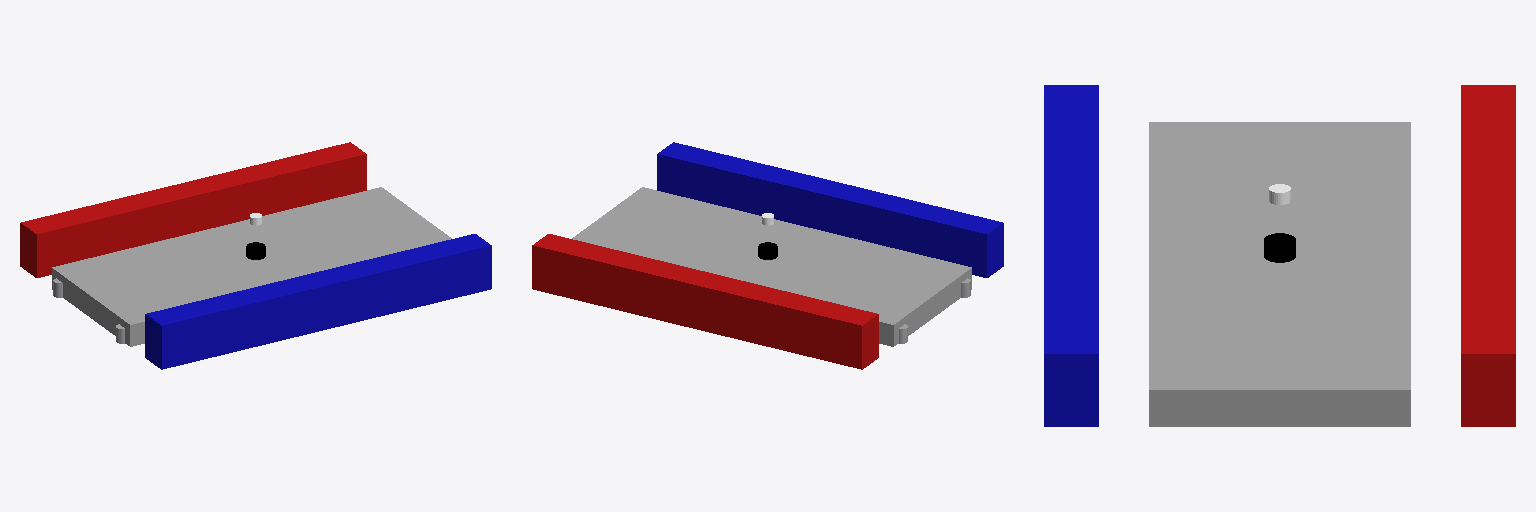
URDF robot description (catamaran):
<?xml version="1.0"?>
<robot name="catamaran">

  <!-- Main bridge/deck -->
  <link name="base_link">
    <visual>
      <geometry>
        <box size="2.35 0.97 0.15"/>
      </geometry>
      <origin xyz="0 0 0.075"/>
      <material name="Aluminum">
        <color rgba="0.7 0.7 0.7 1.0"/>
      </material>
    </visual>
  </link>

  <!-- Starboard (right) hull -->
  <link name="starboard_hull">
    <visual>
      <geometry>
        <box size="2.35 0.20 0.30"/>
      </geometry>
      <origin xyz="0 -0.385 0.15"/>
      <material name="Blue">
        <color rgba="0.1 0.1 0.8 1.0"/>
      </material>
    </visual>
  </link>
  <joint name="starboard_hull_joint" type="fixed">
    <parent link="base_link"/>
    <child link="starboard_hull"/>
    <origin xyz="0 -0.385 0"/>
  </joint>

  <!-- Port (left) hull -->
  <link name="port_hull">
    <visual>
      <geometry>
        <box size="2.35 0.20 0.30"/>
      </geometry>
      <origin xyz="0 0.385 0.15"/>
      <material name="Red">
        <color rgba="0.8 0.1 0.1 1.0"/>
      </material>
    </visual>
  </link>
  <joint name="port_hull_joint" type="fixed">
    <parent link="base_link"/>
    <child link="port_hull"/>
    <origin xyz="0 0.385 0"/>
  </joint>

  <!-- GNSS (GPS) sensor (top, center) -->
  <link name="gnss_link">
    <visual>
      <geometry>
        <cylinder length="0.05" radius="0.04"/>
      </geometry>
      <material name="White">
        <color rgba="1 1 1 1"/>
      </material>
    </visual>
  </link>
  <joint name="gnss_joint" type="fixed">
    <parent link="base_link"/>
    <child link="gnss_link"/>
    <origin xyz="0 0 0.40"/>
  </joint>

  <!-- RP Lidar (center of bridge) -->
  <link name="rplidar_link">
    <visual>
      <geometry>
        <cylinder length="0.07" radius="0.06"/>
      </geometry>
      <material name="Black">
        <color rgba="0 0 0 1"/>
      </material>
    </visual>
  </link>
  <joint name="rplidar_joint" type="fixed">
    <parent link="base_link"/>
    <child link="rplidar_link"/>
    <origin xyz="0 0 0.18"/>
  </joint>

  <!-- Waterproof ultrasonic (front, center, just above waterline) -->
  <link name="ultrasonic_front_link">
    <visual>
      <geometry>
        <cylinder length="0.03" radius="0.02"/>
      </geometry>
      <material name="Green">
        <color rgba="0.2 0.8 0.2 1"/>
      </material>
    </visual>
  </link>
  <joint name="ultrasonic_front_joint" type="fixed">
    <parent link="base_link"/>
    <child link="ultrasonic_front_link"/>
    <origin xyz="1.1 0 0.08"/>
  </joint>

  <!-- HC-SR04 (rear, starboard hull, protected) -->
  <link name="ultrasonic_back_link">
    <visual>
      <geometry>
        <cylinder length="0.025" radius="0.01"/>
      </geometry>
      <material name="Yellow">
        <color rgba="0.9 0.9 0.2 1"/>
      </material>
    </visual>
  </link>
  <joint name="ultrasonic_back_joint" type="fixed">
    <parent link="base_link"/>
    <child link="ultrasonic_back_link"/>
    <origin xyz="-1.1 -0.35 0.10"/>
  </joint>

  <!-- IMU (center of mass, near base_link) -->
  <link name="imu_link">
    <visual>
      <geometry>
        <box size="0.05 0.05 0.02"/>
      </geometry>
      <material name="Orange">
        <color rgba="0.9 0.5 0.1 1"/>
      </material>
    </visual>
  </link>
  <joint name="imu_joint" type="fixed">
    <parent link="base_link"/>
    <child link="imu_link"/>
    <origin xyz="0 0 0.12"/>
  </joint>

  <!-- Starboard (right) rear thruster -->
  <link name="thruster_starboard_link">
    <visual>
      <geometry>
        <cylinder length="0.10" radius="0.04"/>
      </geometry>
      <material name="Silver">
        <color rgba="0.7 0.7 0.7 1"/>
      </material>
    </visual>
  </link>
  <joint name="thruster_starboard_joint" type="fixed">
    <parent link="base_link"/>
    <child link="thruster_starboard_link"/>
    <origin xyz="-1.175 -0.385 0.05"/>
  </joint>

  <!-- Port (left) rear thruster -->
  <link name="thruster_port_link">
    <visual>
      <geometry>
        <cylinder length="0.10" radius="0.04"/>
      </geometry>
      <material name="Silver">
        <color rgba="0.7 0.7 0.7 1"/>
      </material>
    </visual>
  </link>
  <joint name="thruster_port_joint" type="fixed">
    <parent link="base_link"/>
    <child link="thruster_port_link"/>
    <origin xyz="-1.175 0.385 0.05"/>
  </joint>

</robot>

--- Facts derived from the render (not from the file) ---
The picture shows the robot from 3 angles, left to right: view 1: azimuth 30°, elevation 25°; view 2: azimuth 150°, elevation 25°; view 3: azimuth 270°, elevation 25°; orthographic projection.
Model catamaran with 10 links and 9 joints (9 fixed), rooted at base_link, posed every joint at zero.
Visible links, largest first — view 1: base_link, starboard_hull, port_hull; view 2: base_link, port_hull, starboard_hull; view 3: base_link, starboard_hull, port_hull, rplidar_link.
Link boxes in pixels (left/top/right/bottom): base_link: left=52, top=187, right=451, bottom=346; starboard_hull: left=145, top=234, right=491, bottom=369; port_hull: left=20, top=142, right=366, bottom=277; base_link: left=572, top=187, right=971, bottom=346; port_hull: left=532, top=234, right=878, bottom=369; starboard_hull: left=657, top=142, right=1003, bottom=277; base_link: left=1149, top=122, right=1410, bottom=426; starboard_hull: left=1044, top=85, right=1098, bottom=426; port_hull: left=1461, top=85, right=1515, bottom=426; rplidar_link: left=1264, top=233, right=1295, bottom=262.
Size in the robot's own frame: 2.39 by 1.74 by 0.425 metres.
Geometry: primitives only (box / cylinder / sphere), no mesh files.
